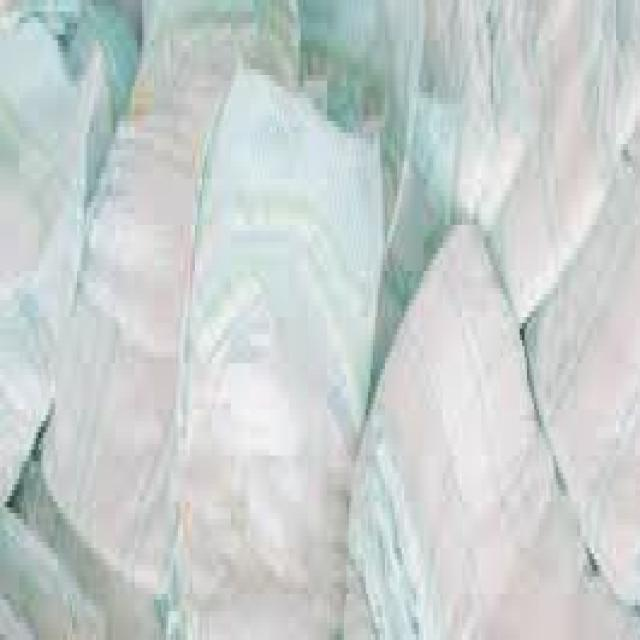organic: (18, 13, 608, 615)
